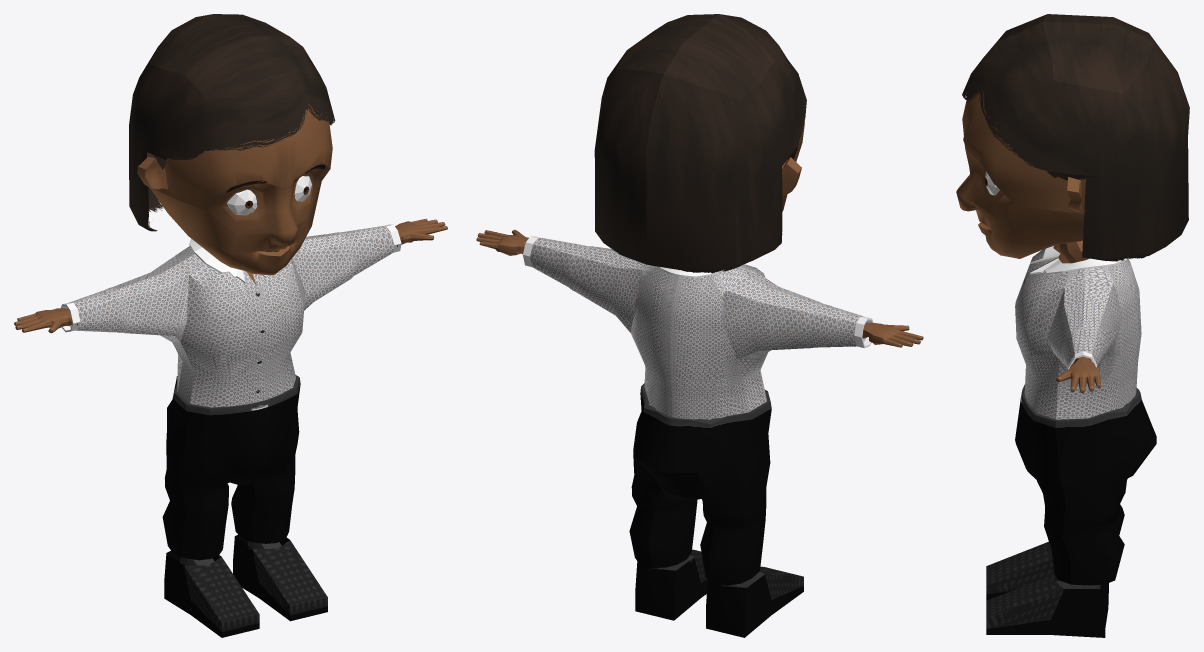
Rendered from characterlow.fbx.
3 views of the same model, side by side, from view 1: azimuth 30°, elevation 25°; view 2: azimuth 150°, elevation 25°; view 3: azimuth 270°, elevation 25° (orthographic). The views are drawn at different scales.
Parts seen in each view (by area): view 1: shirt, hair1, body1, pants, shoes2, shoes1; view 2: hair1, shirt, pants, shoes2, shoes1, body1; view 3: hair1, shirt, pants, body1, shoes1, shoes2.
Boxes of the visible parts, x1=… form: shirt: x1=61, y1=224, x2=401, y2=407; hair1: x1=129, y1=14, x2=335, y2=231; body1: x1=14, y1=104, x2=447, y2=565; pants: x1=162, y1=375, x2=300, y2=560; shoes2: x1=164, y1=551, x2=259, y2=637; shoes1: x1=233, y1=535, x2=327, y2=621; hair1: x1=594, y1=14, x2=806, y2=273; shirt: x1=523, y1=236, x2=873, y2=419; pants: x1=629, y1=383, x2=771, y2=585; shoes2: x1=706, y1=566, x2=803, y2=637; shoes1: x1=635, y1=549, x2=707, y2=620; body1: x1=476, y1=122, x2=923, y2=587; hair1: x1=962, y1=14, x2=1189, y2=261; shirt: x1=1015, y1=246, x2=1141, y2=419; pants: x1=1015, y1=384, x2=1156, y2=585; body1: x1=956, y1=90, x2=1100, y2=589; shoes1: x1=986, y1=574, x2=1108, y2=637; shoes2: x1=986, y1=541, x2=1054, y2=600.
Bounding box in the file's own units: 15.64 × 19.84 × 7.24.
